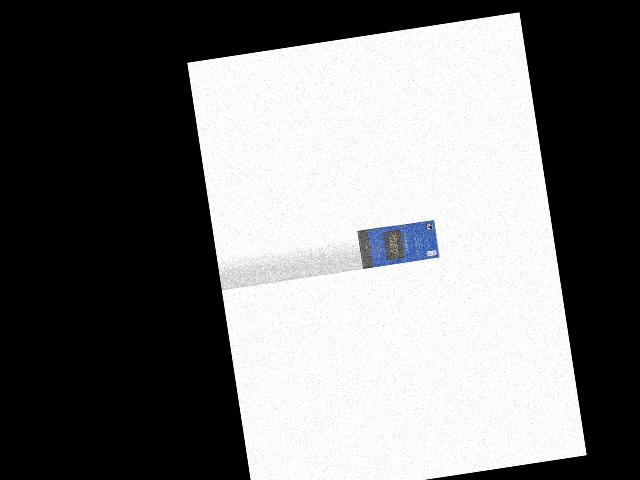chocolate: (357, 219, 438, 269)
